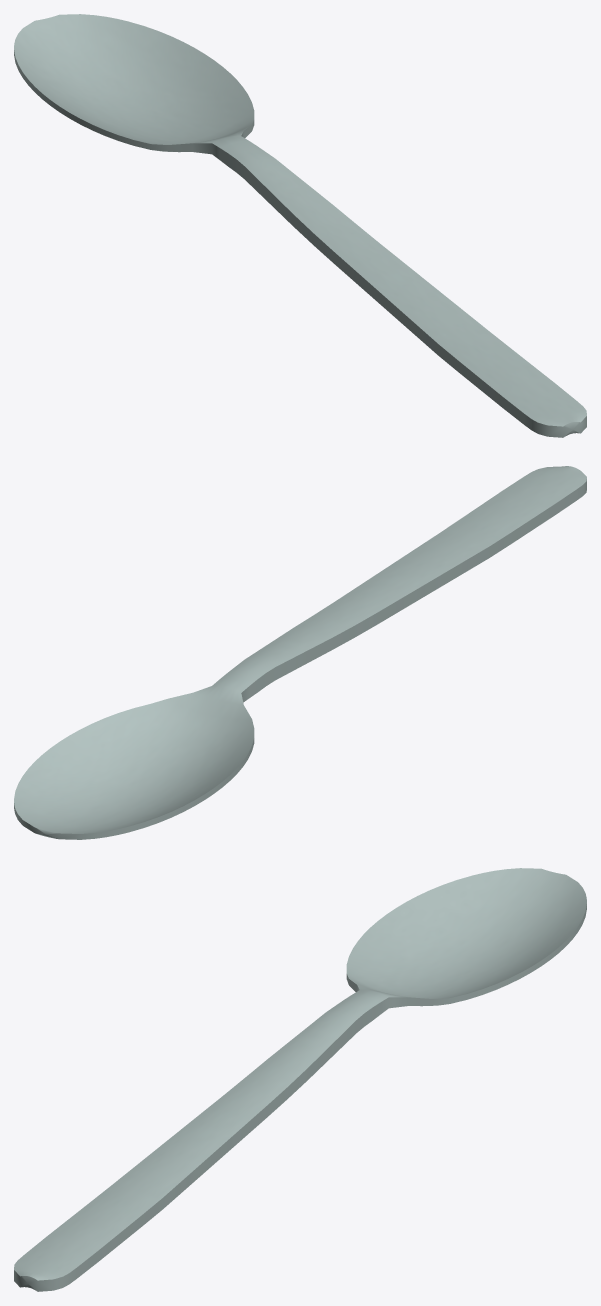
The model's file is 08_Dinner_Spoon.fbx.
3 views of the same model, one above another, from view 1: azimuth 30°, elevation 25°; view 2: azimuth 150°, elevation 25°; view 3: azimuth 330°, elevation 25° (orthographic).
Parts seen in each view (by area): view 1: 08_Dinner_Spoon_Mesh.001; view 2: 08_Dinner_Spoon_Mesh.001; view 3: 08_Dinner_Spoon_Mesh.001.
Part boxes in pixels (x1,y1,x2,y2): 08_Dinner_Spoon_Mesh.001: (14,14,586,437); 08_Dinner_Spoon_Mesh.001: (14,466,586,839); 08_Dinner_Spoon_Mesh.001: (14,868,586,1291).
Size of the model in its own units: 3.8 by 1.05 by 21.2.
1 material, 1 textured.
